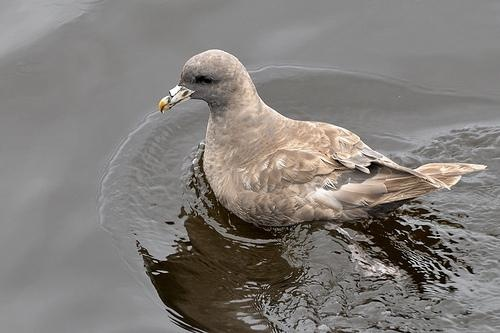bird: (158, 49, 486, 232)
